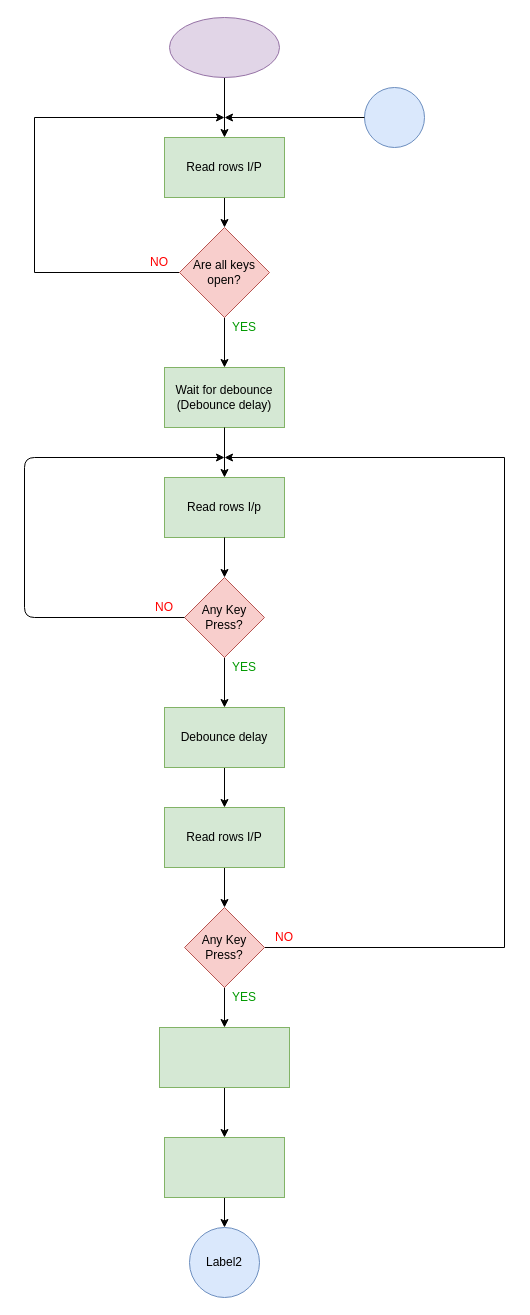
Some shapes in this 530 by 1315 pixel diagram are drawn without their labels. The shapes that lost their labels are listed below. From the top down, each one's centre as x and y in pixels, then its label:
At (224,47): "Key Press".
At (394,117): "Label1".
At (224,1057): "Combine rows and columns and compare with look up table".
At (224,1167): "Decode the key".
